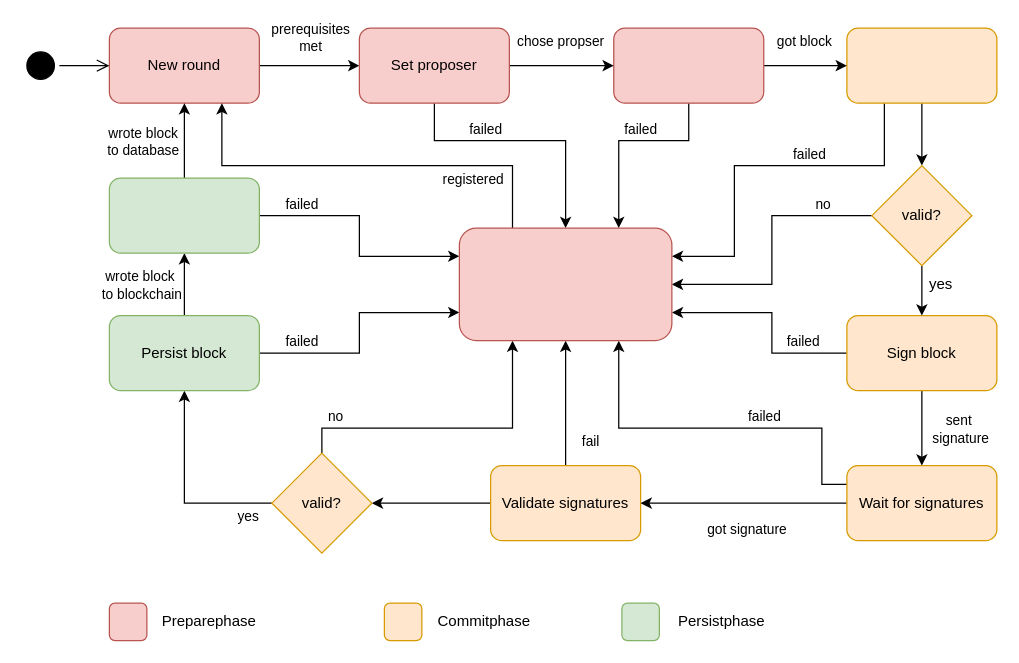
The diagram is 1019 pixels wide and 663 high, and some of its shapes have lost their labels. The centre of each missing label's shape, as x and y in pixels:
"Parse block" goes at [183,215].
"Round change" goes at [565,284].
"Validate block" goes at [921,65].
"Wait for block" goes at [688,65].
